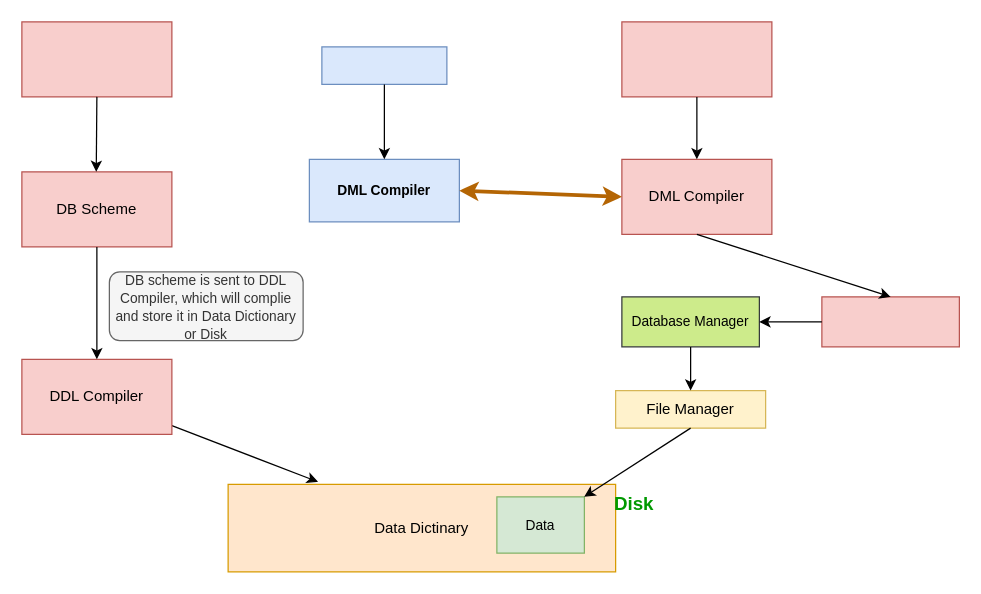
This 981x594 diagram has some shape labels left out. Each missing label, with the centre of its shape:
"Appl prog. Object Code" belongs at pixel 890 321.
"Application Programs (written in DML)" belongs at pixel 696 59.
"DBA" belongs at pixel 96 59.
"Query" belongs at pixel 384 65.
